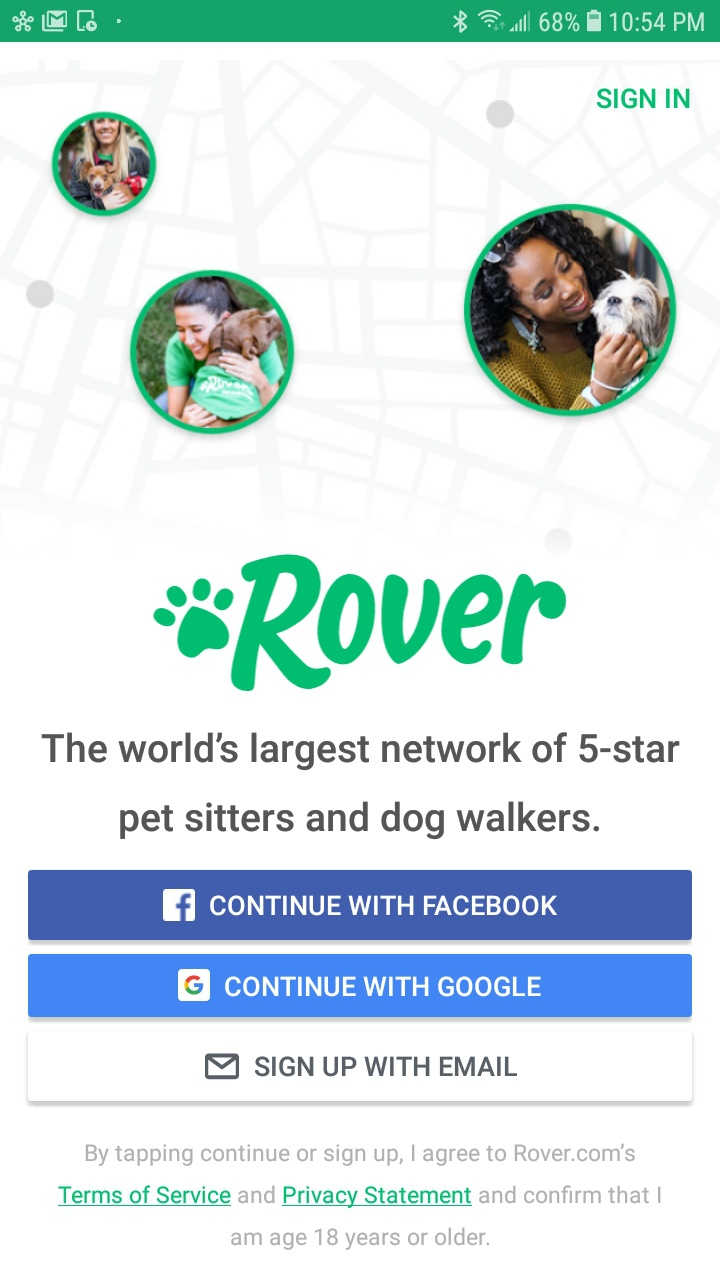Image: (153, 554, 567, 692), (464, 205, 677, 418), (130, 270, 295, 435), (52, 113, 158, 218)
Text: (59, 1142, 662, 1250), (42, 732, 681, 771), (120, 801, 600, 840), (597, 88, 691, 110)
TextButton: (28, 1030, 693, 1102), (28, 870, 692, 941), (28, 954, 692, 1018)
UpperTaskBar: (1, 1, 720, 43)
